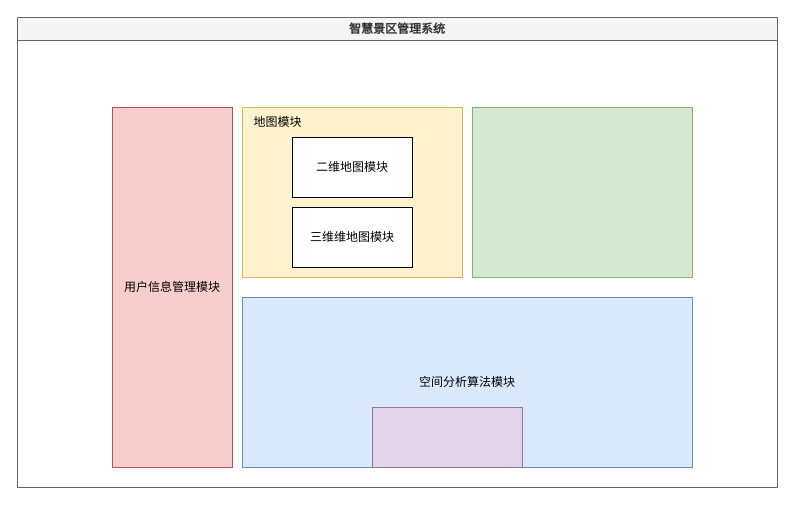
This 795x505 diagram has some shape labels left out. The shapes that lost their labels are listed below. From the top down, each one's centre as x and y in pixels, then its label:
point (582, 192): 统计图表模块
point (447, 437): 自定义空间实体数据结构
